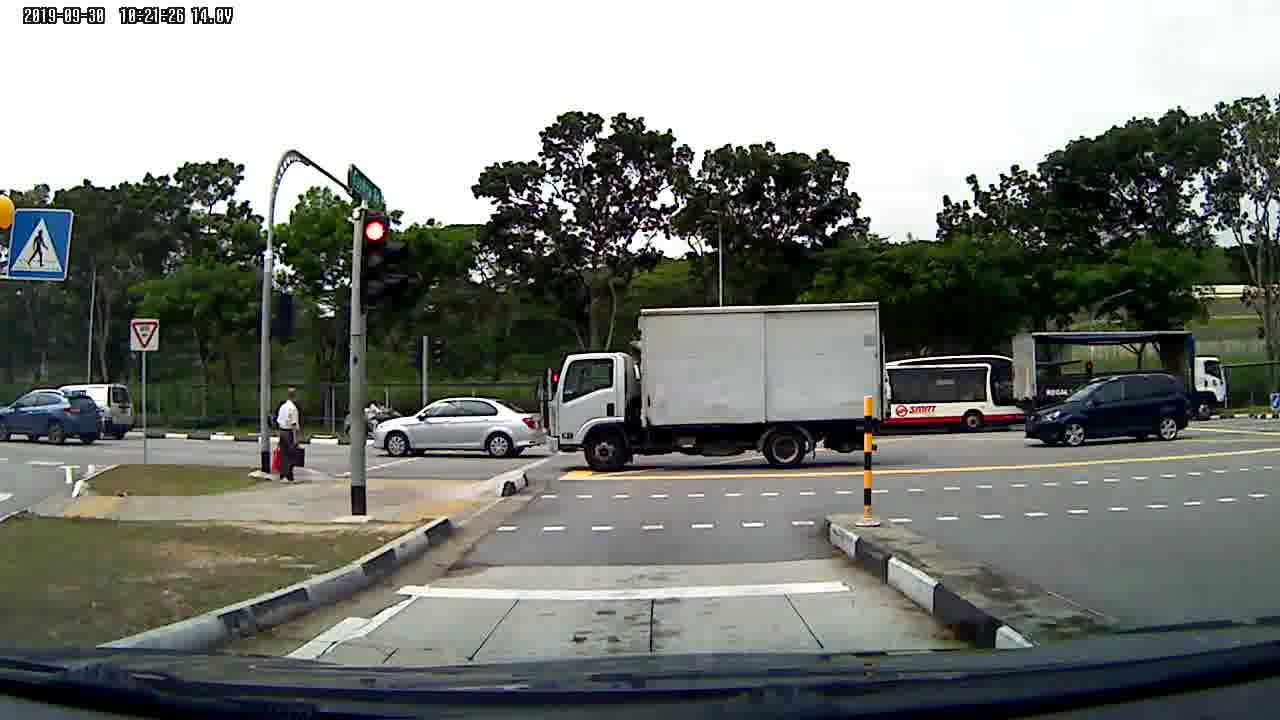bus: (881, 349, 1031, 449)
car: (1026, 377, 1194, 451), (374, 394, 550, 462), (1, 385, 105, 444)
